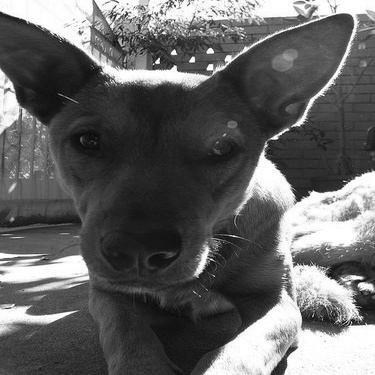dog: (1, 11, 360, 369)
